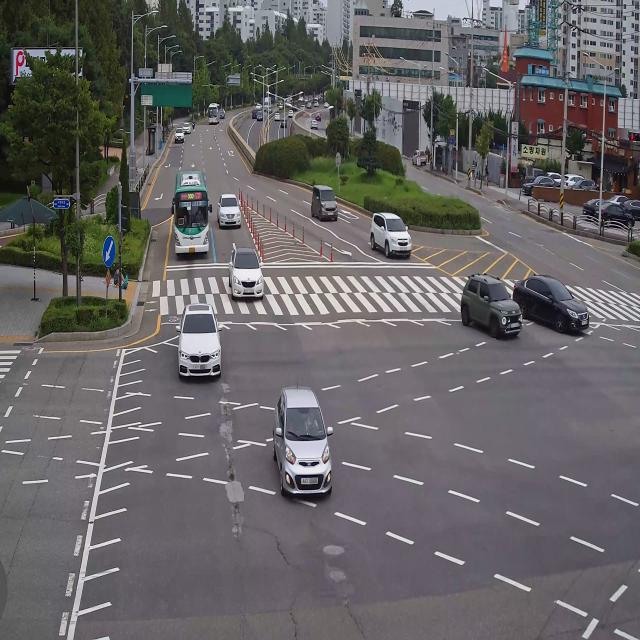Bus: (169, 164, 215, 269), (202, 98, 220, 129), (263, 96, 271, 110), (250, 108, 258, 120)
Car: (445, 260, 529, 358), (272, 381, 338, 505), (507, 256, 594, 343), (166, 292, 236, 399), (222, 231, 277, 306), (370, 203, 421, 263), (301, 163, 342, 229), (220, 181, 254, 242), (595, 200, 635, 230), (522, 168, 555, 200), (580, 195, 610, 216), (560, 169, 584, 194), (573, 176, 601, 194), (620, 194, 640, 218), (606, 190, 628, 208), (542, 165, 562, 184), (408, 148, 427, 167), (172, 125, 186, 146), (180, 119, 191, 135), (280, 116, 288, 130), (310, 118, 318, 132), (218, 107, 226, 120), (252, 100, 262, 110), (274, 109, 281, 122), (323, 98, 330, 111), (314, 111, 322, 122), (257, 109, 263, 123), (306, 100, 313, 112), (313, 98, 321, 108), (292, 102, 299, 113), (287, 108, 293, 120), (268, 104, 274, 115), (300, 103, 306, 113)
Motorcycle: (191, 115, 196, 130)
